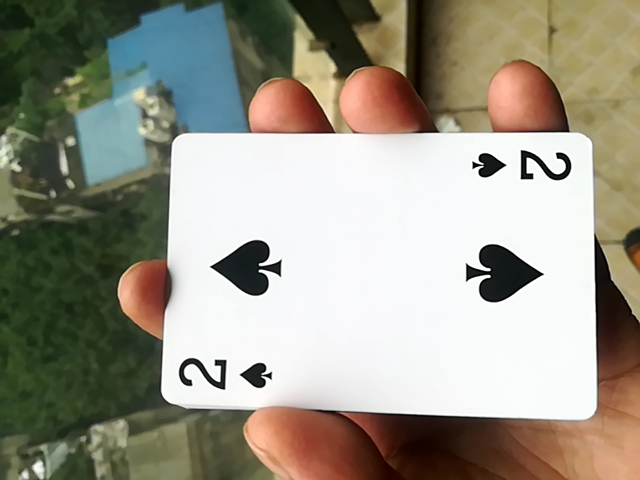ht 2: (145, 128, 595, 430)
